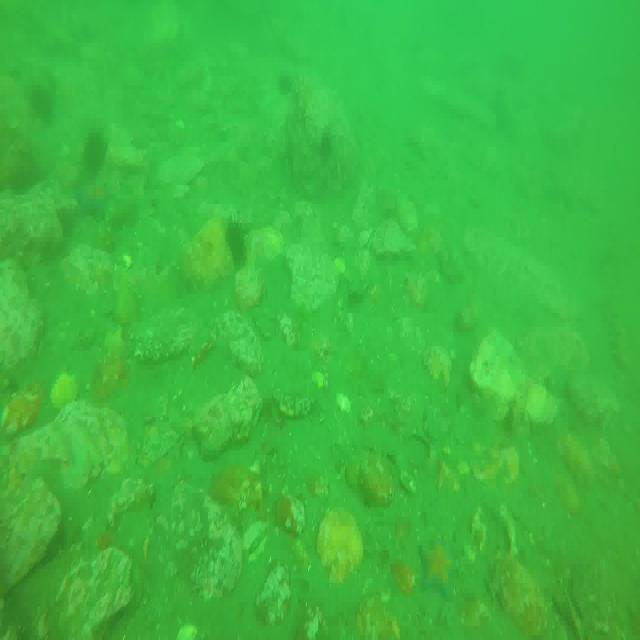echinus: (222, 217, 248, 268), (84, 130, 110, 168), (315, 125, 335, 163), (278, 68, 296, 93)
scallop: (318, 507, 368, 582)
starfish: (420, 530, 460, 592), (74, 179, 114, 218)
